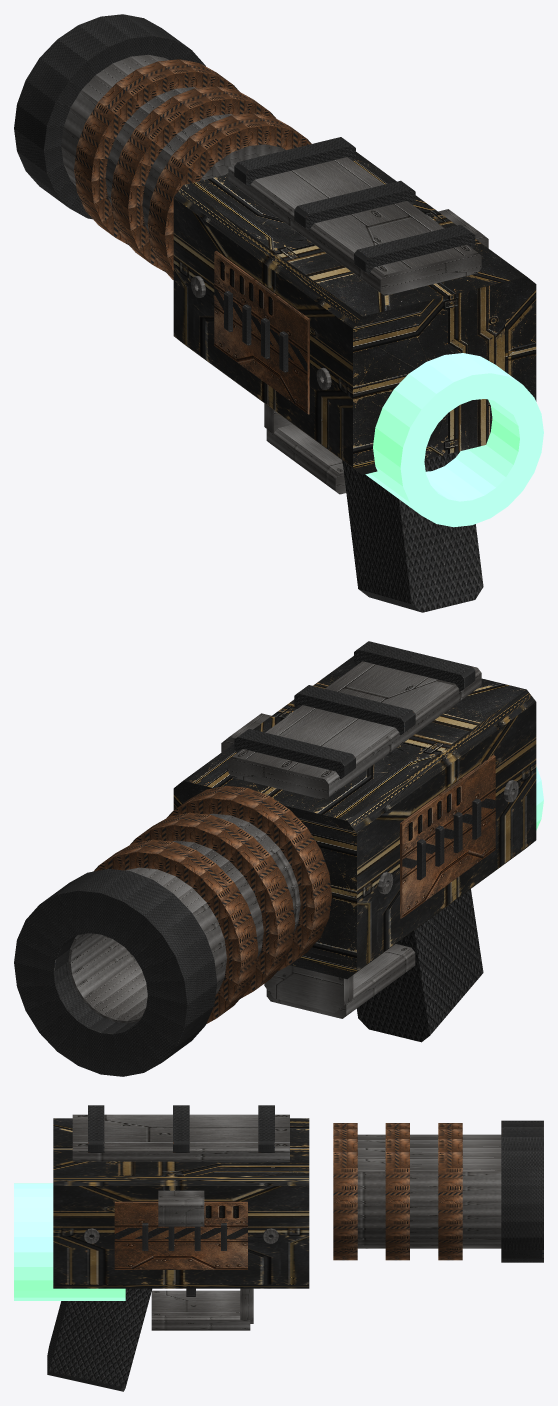
File: ricochet.gltf
3 renders of one model, top to bottom at view 1: azimuth 30°, elevation 25°; view 2: azimuth 150°, elevation 25°; view 3: azimuth 270°, elevation 25°, orthographic. The views are drawn at different scales.
Parts seen in each view (by area): view 1: Receiver, AcceleratorCoil (×3), BallChamber, Grip, TopRail, Muzzle, InsetPanel, RailNotch (×3), Barrel, TriggerGuard; view 2: Receiver, Muzzle, AcceleratorCoil (×3), TopRail, Barrel, Grip, InsetPanel, RailNotch (×3), GuardFront, TriggerGuard; view 3: Receiver, Barrel, AcceleratorCoil (×3), TopRail, InsetPanel, Grip, Muzzle, BallChamber, TriggerGuard, RailNotch (×3), MovingBolt, GuardFront.
Boxes of the visible parts, x1,y1,x2,y2 form: Receiver: [173, 152, 536, 474]; AcceleratorCoil (×3): [74, 59, 311, 279]; BallChamber: [365, 353, 543, 527]; Grip: [342, 451, 483, 612]; TopRail: [228, 157, 481, 295]; Muzzle: [14, 14, 205, 219]; InsetPanel: [214, 251, 309, 414]; RailNotch (×3): [234, 137, 475, 274]; Barrel: [61, 54, 285, 232]; TriggerGuard: [266, 424, 346, 494]; Receiver: [173, 656, 536, 978]; Muzzle: [14, 869, 217, 1076]; AcceleratorCoil (×3): [93, 785, 331, 1023]; TopRail: [228, 661, 481, 799]; Barrel: [68, 813, 300, 1023]; Grip: [357, 889, 483, 1042]; InsetPanel: [400, 755, 495, 918]; RailNotch (×3): [234, 641, 475, 778]; GuardFront: [264, 965, 353, 1012]; TriggerGuard: [266, 944, 415, 1018]; Receiver: [53, 1118, 309, 1288]; Barrel: [357, 1134, 501, 1248]; AcceleratorCoil (×3): [333, 1123, 462, 1260]; TopRail: [72, 1114, 289, 1161]; InsetPanel: [114, 1201, 247, 1269]; Grip: [47, 1288, 152, 1391]; Muzzle: [501, 1120, 543, 1262]; BallChamber: [14, 1183, 125, 1300]; TriggerGuard: [151, 1290, 250, 1330]; RailNotch (×3): [88, 1105, 274, 1152]; MovingBolt: [158, 1190, 204, 1226]; GuardFront: [240, 1288, 253, 1323].
Bounding box in the file's own units: 0.2037 × 0.3271 × 0.6056.
Materials: 5 (4 with a texture image).
